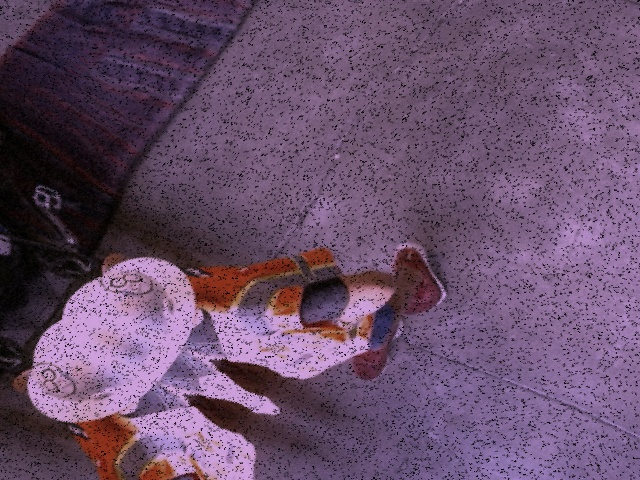eight: (92, 258, 158, 306)
